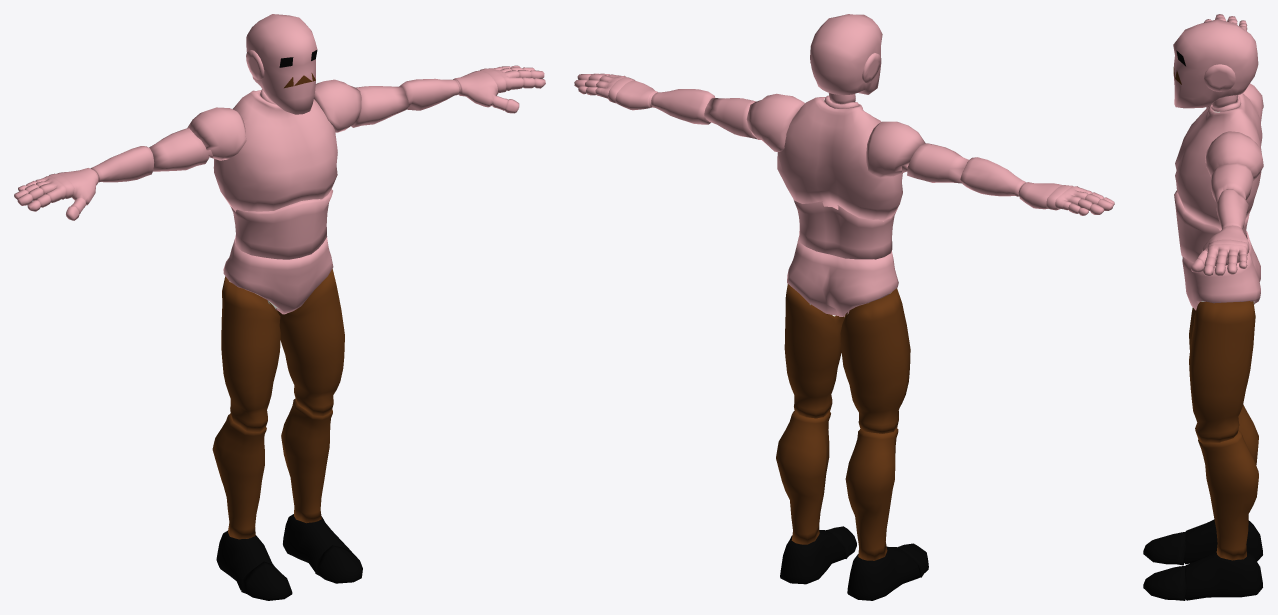
Rendered from Human.fbx.
3 renders of one model, left to right at view 1: azimuth 30°, elevation 25°; view 2: azimuth 150°, elevation 25°; view 3: azimuth 270°, elevation 25°, orthographic.
Visible parts, largest first — view 1: HumanM_BodyMesh; view 2: HumanM_BodyMesh; view 3: HumanM_BodyMesh.
Boxes of the visible parts, bbox=[...] form: HumanM_BodyMesh: bbox=[14, 14, 545, 600]; HumanM_BodyMesh: bbox=[574, 14, 1114, 600]; HumanM_BodyMesh: bbox=[1143, 14, 1263, 600].
Bounding box in the file's own units: 182 × 182 × 36.14.
